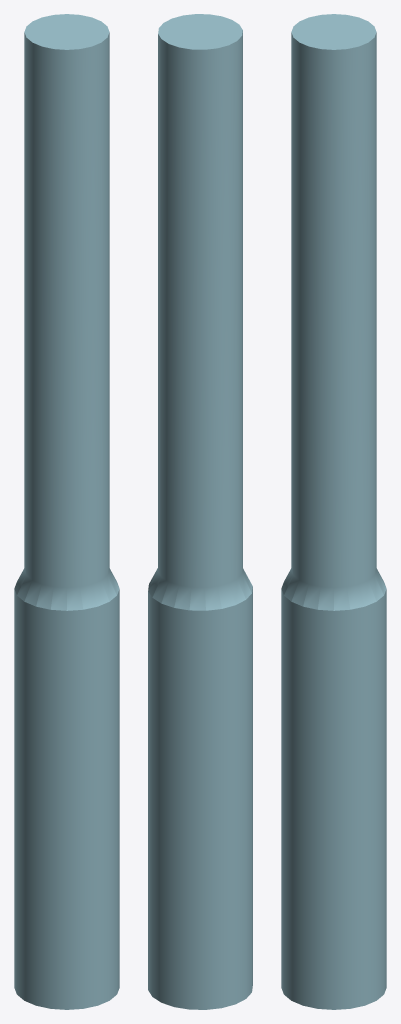
File: 3 cyla.fbx
3 renders of one model, left to right at view 1: azimuth 90°, elevation 25°; view 2: azimuth 150°, elevation 25°; view 3: azimuth 270°, elevation 25°, orthographic.
Parts seen in each view (by area): view 1: pCylinder10; view 2: pCylinder10; view 3: pCylinder10.
Part boxes in pixels (bbox=[...]): pCylinder10: bbox=[14, 14, 119, 1009]; pCylinder10: bbox=[148, 14, 252, 1009]; pCylinder10: bbox=[281, 14, 386, 1009].
Bounding box in the file's own units: 2 × 20.02 × 2.
